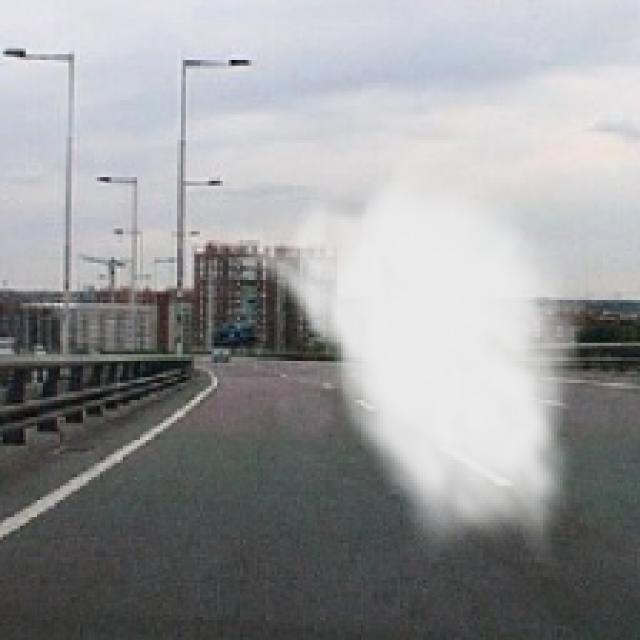Smoke: (220, 148, 589, 566)
